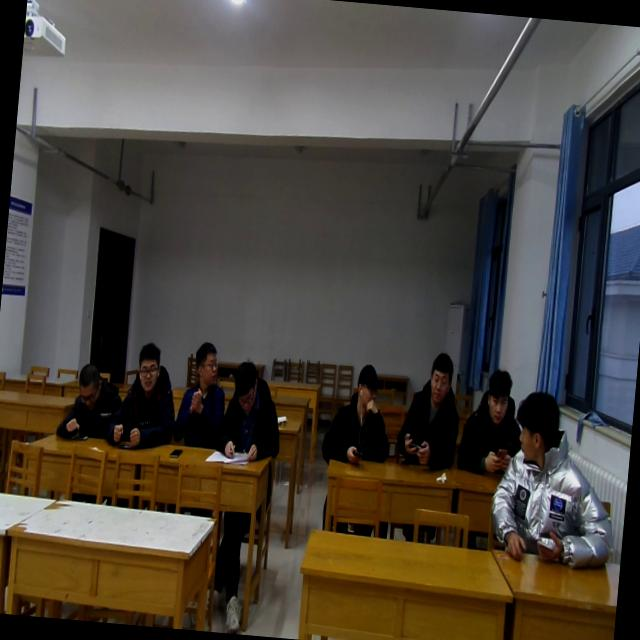bow: (54, 358, 126, 447)
down: (480, 364, 517, 428), (227, 357, 264, 418), (72, 356, 105, 411)
lookup: (425, 346, 457, 408), (130, 338, 164, 392)
sit: (486, 388, 628, 573), (392, 346, 467, 472), (104, 338, 181, 455), (320, 359, 398, 469), (456, 366, 529, 480), (216, 358, 286, 466), (170, 338, 232, 446)
